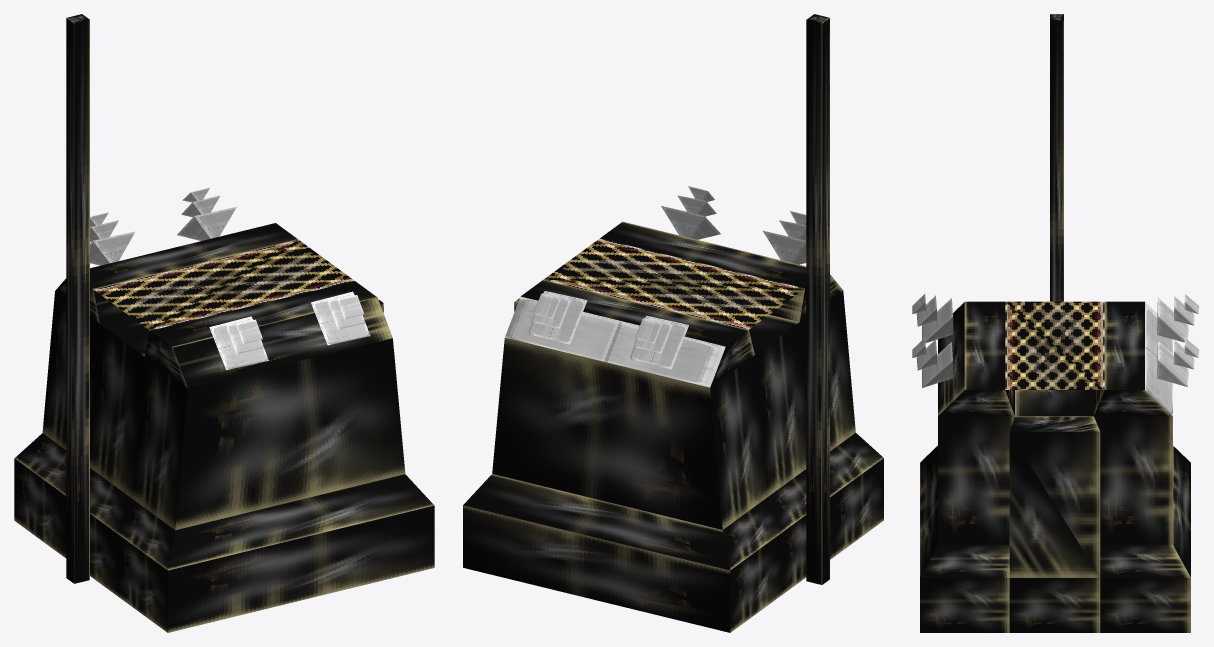
3 views of the same model, side by side, from view 1: azimuth 30°, elevation 25°; view 2: azimuth 150°, elevation 25°; view 3: azimuth 270°, elevation 25° (orthographic). The views are drawn at different scales.
Visible parts, largest first — view 1: prim128-Pyramid12; view 2: prim128-Pyramid12; view 3: prim128-Pyramid12.
Boxes of the visible parts, x1=… form: prim128-Pyramid12: x1=14, y1=14, x2=434, y2=632; prim128-Pyramid12: x1=463, y1=14, x2=883, y2=632; prim128-Pyramid12: x1=912, y1=14, x2=1199, y2=632.
Size of the model in its own units: 274 by 512 by 269.
3 materials, 3 textured.
